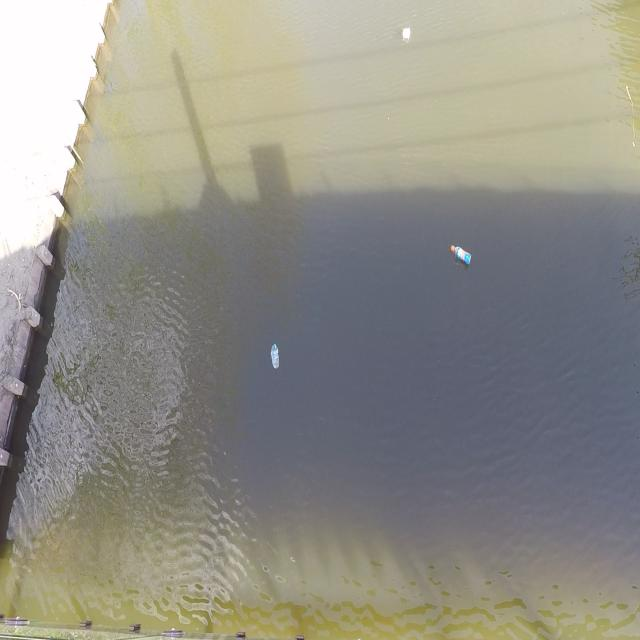Bouteille plastique: (447, 238, 475, 271), (264, 333, 284, 375)
